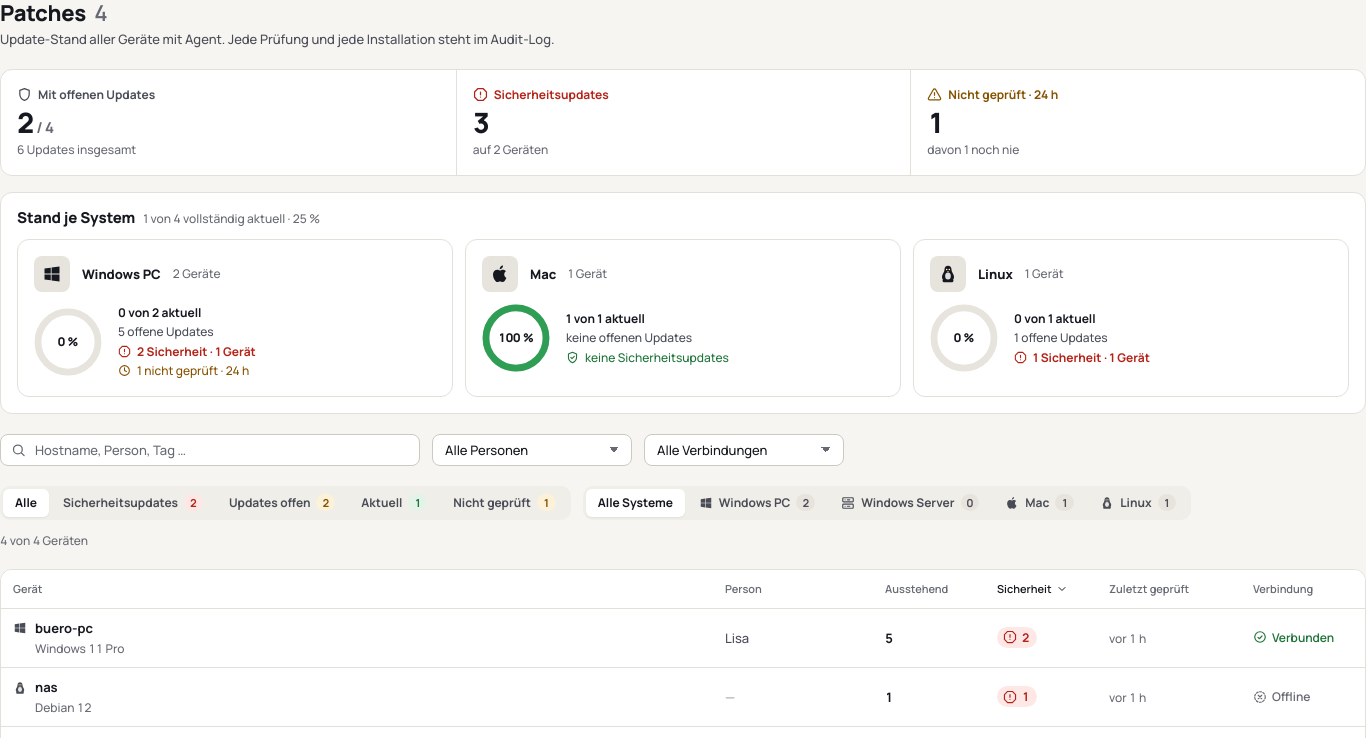
Test: PatchesPage Filter › findet über die Suche
Type "debian" into the search field named "Geräte durchsuchen" at coordinates (210, 450), box [0, 434, 420, 466]
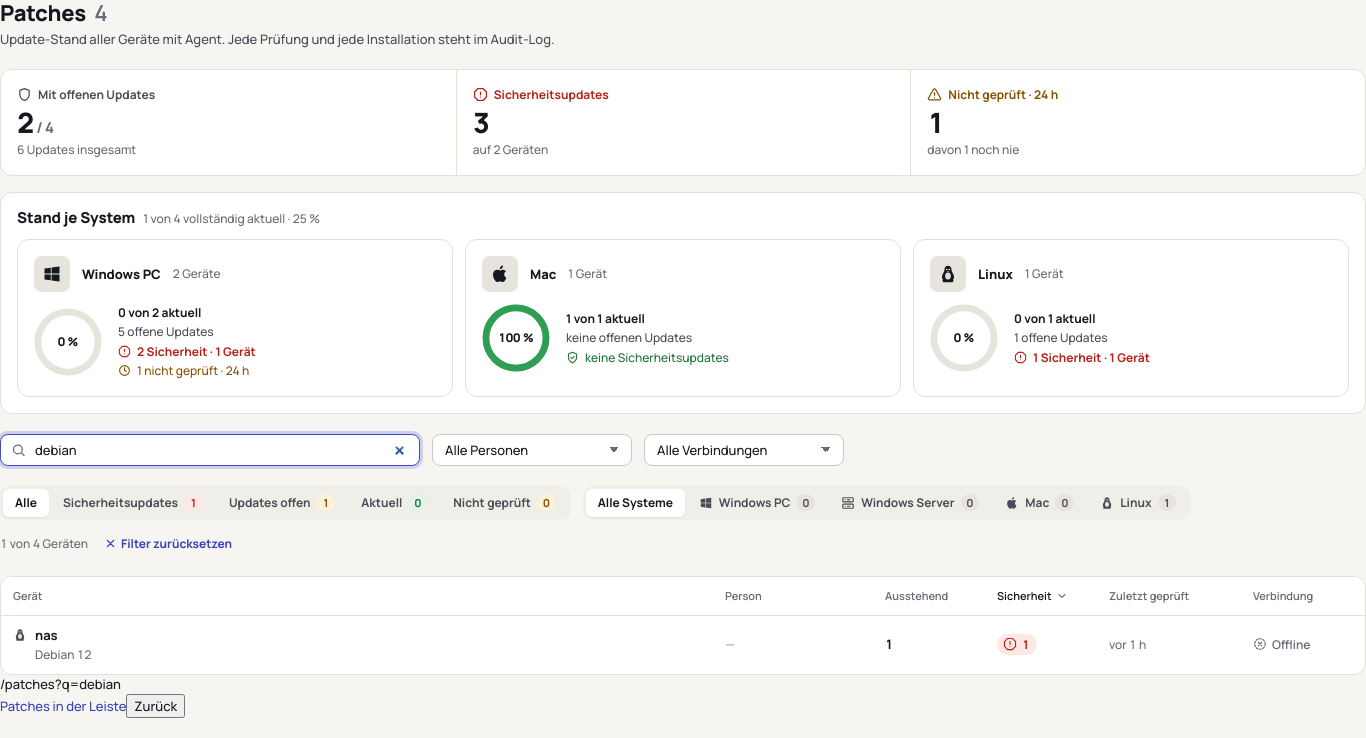
Now the text with test id "location" reads "/patches?q=debian", box [0, 675, 121, 693]
